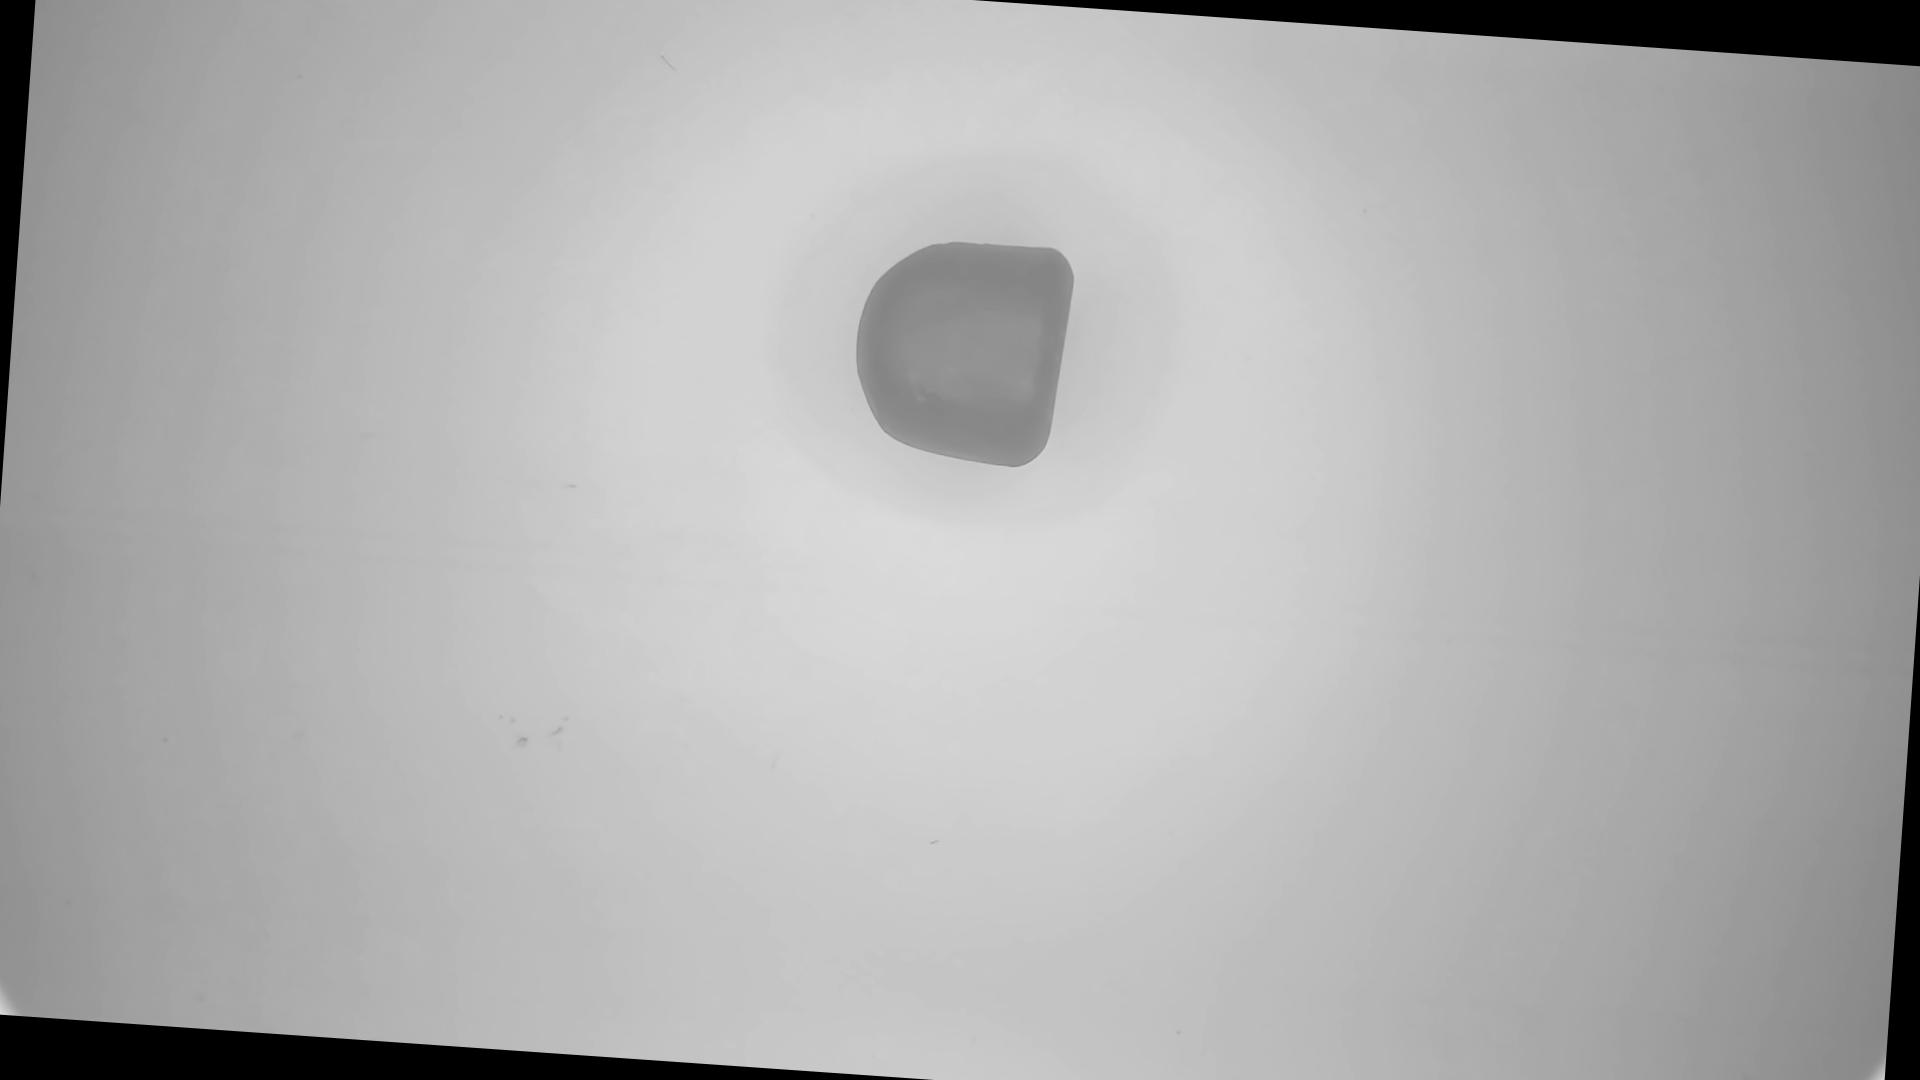normal: (847, 229, 1081, 476)
